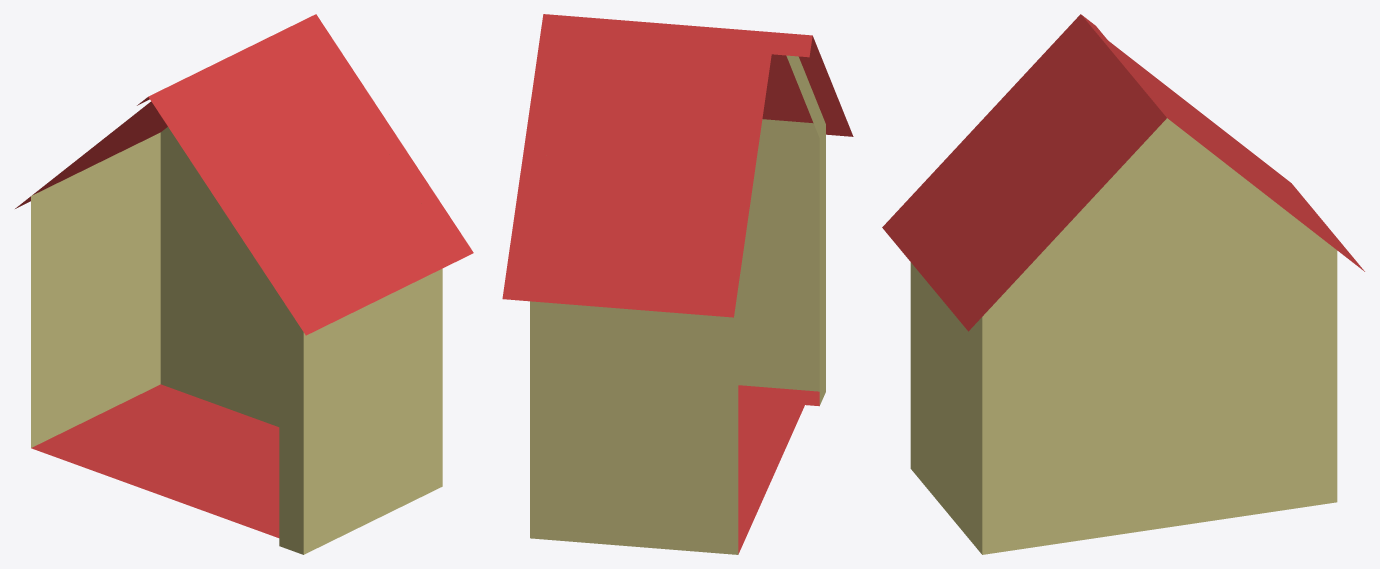
3 views of the same model, side by side, from view 1: azimuth 30°, elevation 25°; view 2: azimuth 150°, elevation 25°; view 3: azimuth 270°, elevation 25° (orthographic). The views are drawn at different scales.
Bounding box in the file's own units: 11.68 × 16.09 × 15.4.
